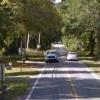Tree: (14, 0, 79, 41)
